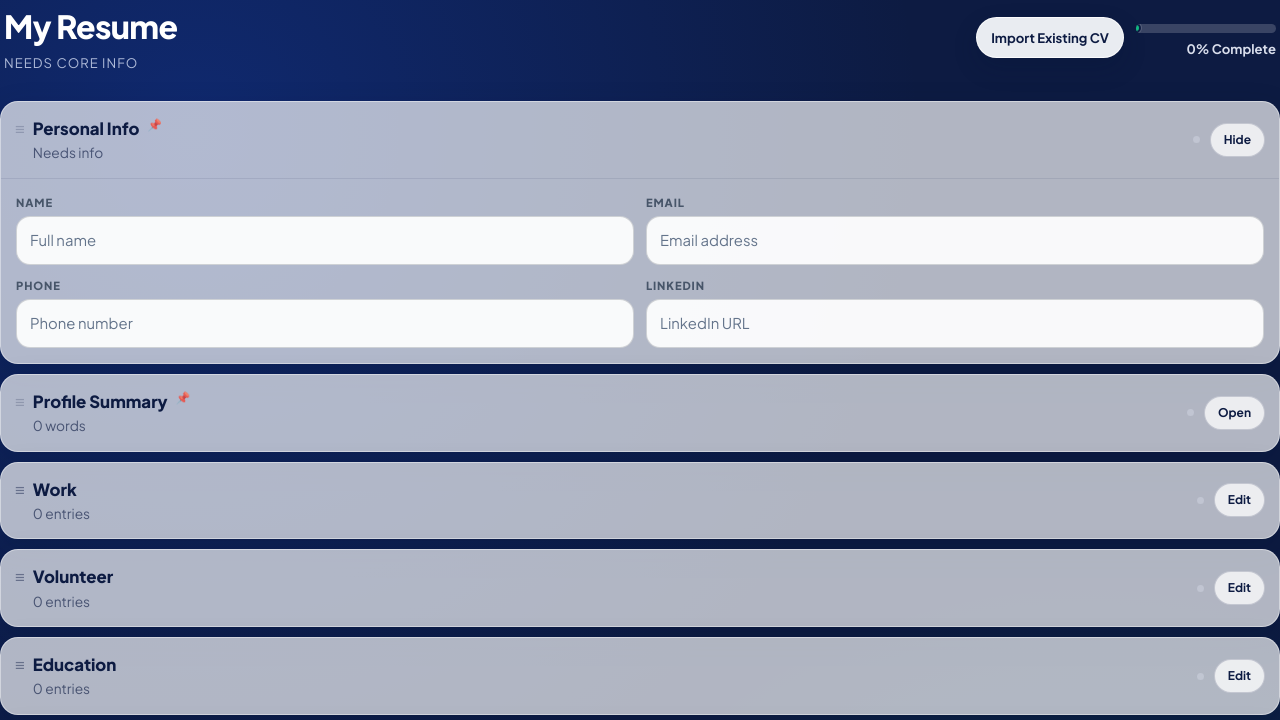
Test: CVForm › shows section overflow warning from layout metrics
Click the button with class "card-action-btn" showing "Open" at {"x": 1234, "y": 413}, box [1204, 396, 1265, 430]
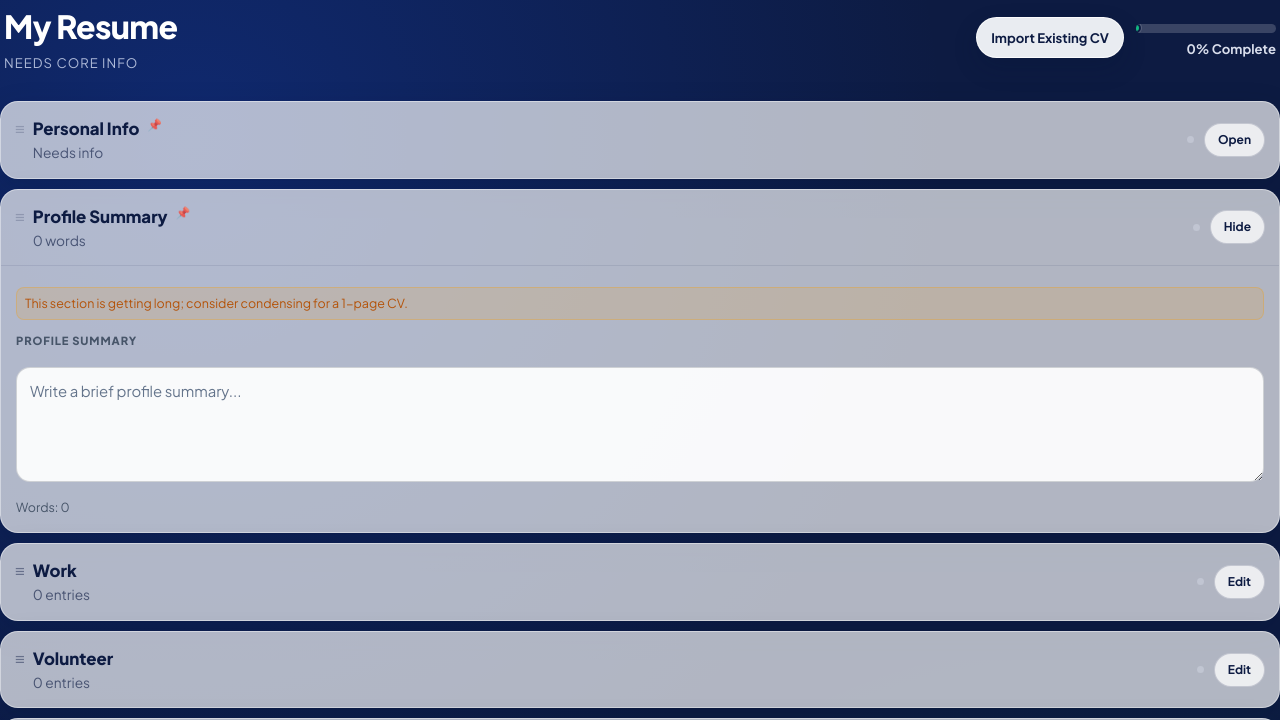
Expected: the text "This section is getting long; consider condensing for a 1-page CV." is shown, [16, 287, 1264, 320]
